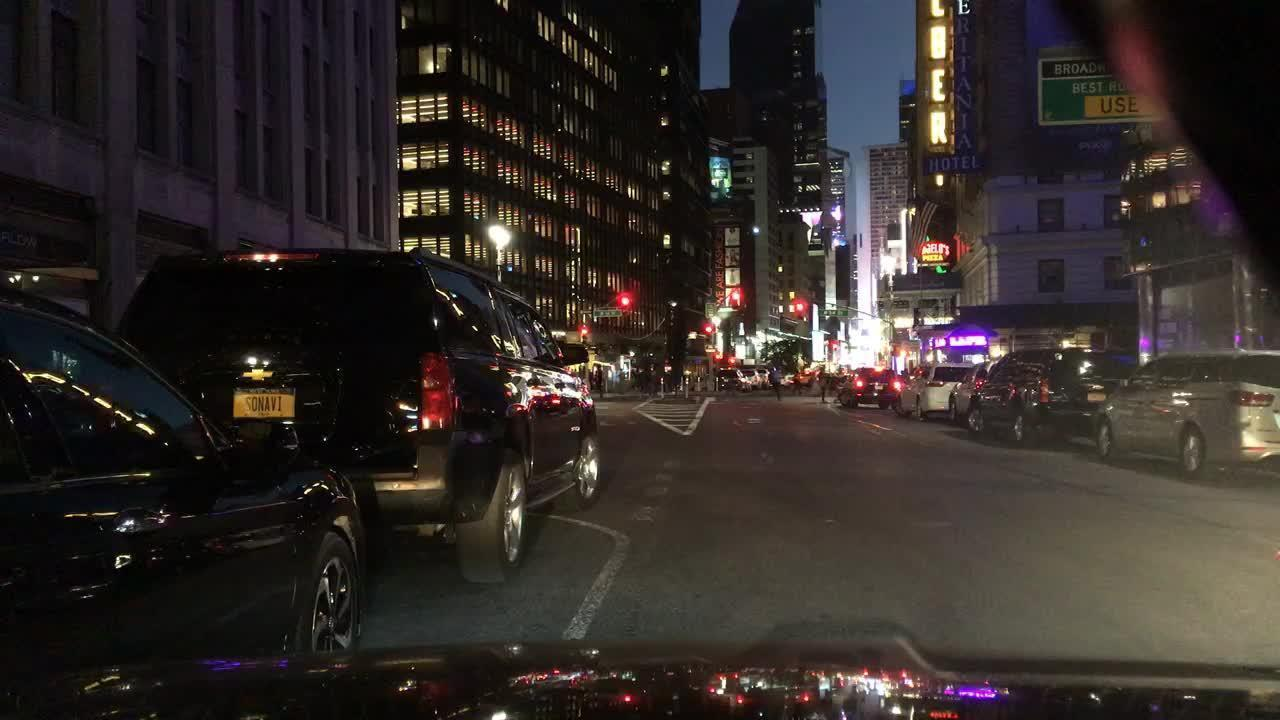chevrolet: (240, 363, 280, 390)
